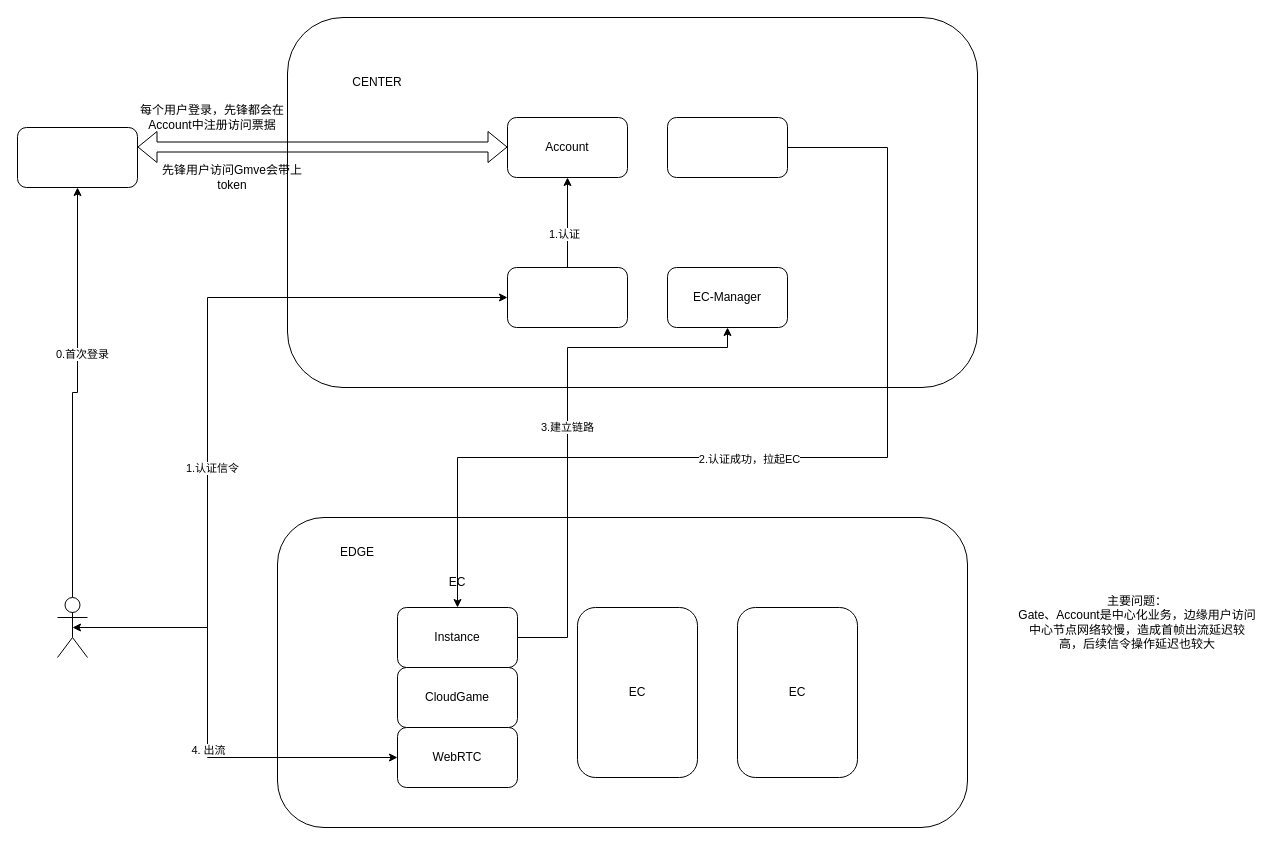
Image size: 1275x845. Some labels were removed from this diagram. Here are the shapes that lost their labels. From the top down, the centre of each, then its label:
the point at 77,157: 先锋云游戏
the point at 727,147: Edge-Scheduler
the point at 567,297: Gate
the point at 72,627: Client
